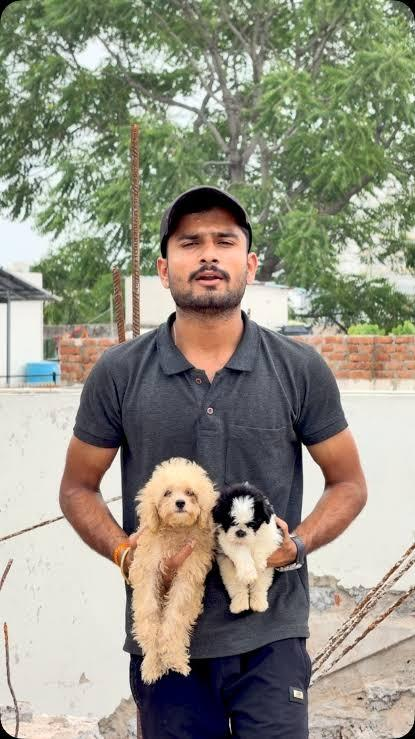non-dog: (55, 182, 366, 736)
puppy-dog: (130, 458, 218, 685), (210, 482, 284, 614)
